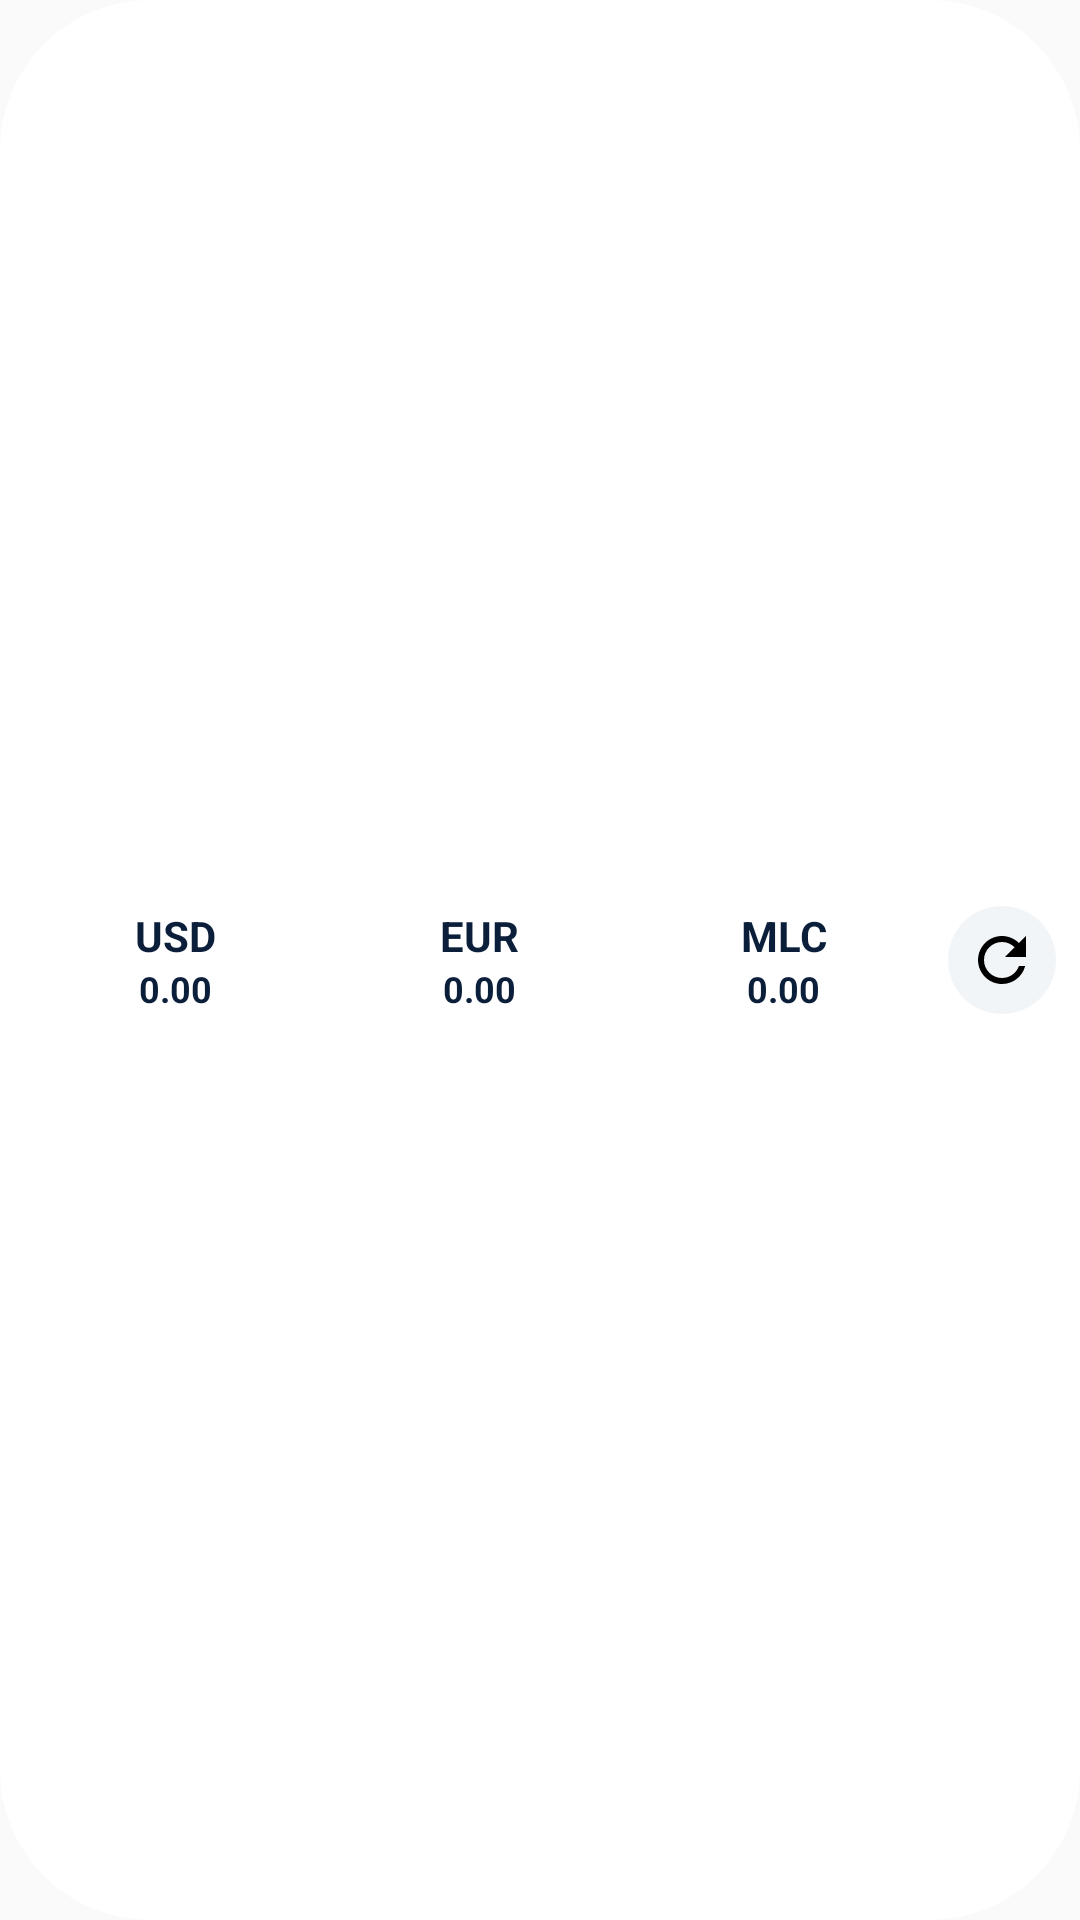

Icons on this 1080*1920 Android screen, each with its box as BBox(x1, y1, x2, y2):
Actualizar tasas: BBox(948, 906, 1056, 1014)
